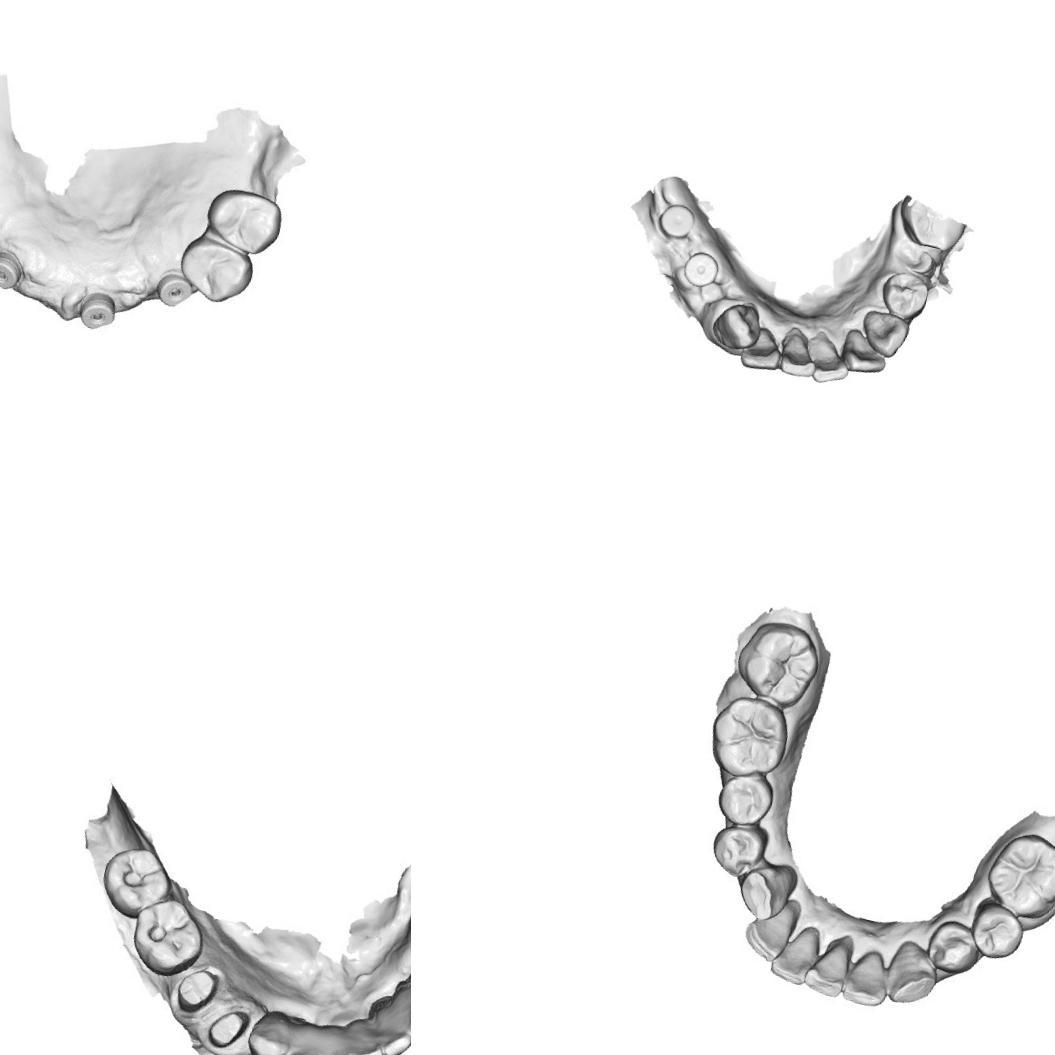canine: (731, 854, 801, 927), (880, 936, 944, 1011), (708, 297, 766, 354), (855, 306, 912, 362), (239, 1004, 299, 1055)
crown: (170, 960, 224, 1018), (201, 1002, 251, 1054)
implant: (74, 288, 120, 336), (152, 272, 195, 316), (680, 248, 722, 291), (655, 200, 698, 242), (0, 249, 26, 295)
incisor: (739, 898, 800, 966), (838, 946, 899, 1011), (800, 933, 856, 1003), (766, 923, 825, 989), (803, 331, 856, 389), (836, 326, 891, 380), (737, 322, 788, 376), (775, 328, 822, 381), (342, 1018, 394, 1055), (282, 1023, 329, 1055), (371, 1019, 411, 1055), (313, 1026, 362, 1055), (395, 987, 411, 1044)
molar: (728, 610, 830, 712), (700, 688, 800, 788), (125, 891, 214, 983), (977, 824, 1055, 928), (94, 838, 178, 926), (892, 205, 967, 256)
premolar: (170, 231, 258, 311), (198, 183, 288, 257), (962, 898, 1030, 965), (706, 818, 774, 881), (712, 768, 778, 832), (924, 916, 986, 980), (874, 266, 934, 324)
